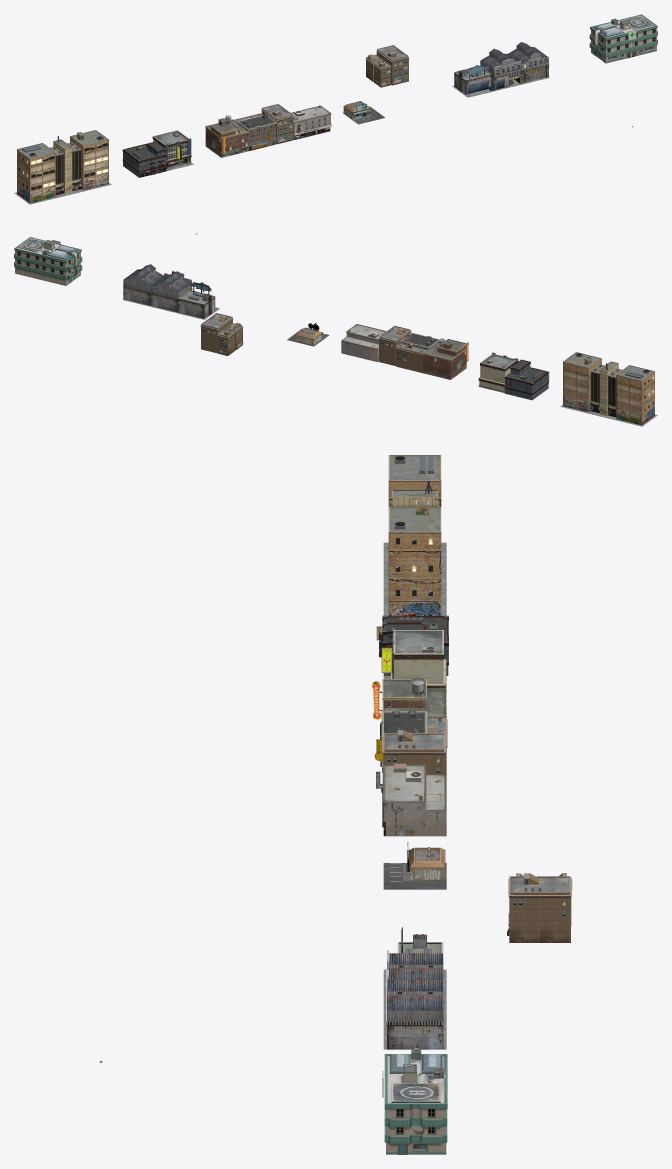
Rendered from predios.glb.
3 views of the same model, one above another, from view 1: azimuth 30°, elevation 25°; view 2: azimuth 150°, elevation 25°; view 3: azimuth 270°, elevation 25° (orthographic). The views are drawn at different scales.
Parts seen in each view (by area): view 1: LM_Clinic2, pasted__pCube27, Filler_Apartments2, pasted__pCube20, pCube6 (×2), pasted__pCube1 (×2), polySurface139 (×2), pasted__pCube19, pasted__polySurface17, pCube21, pasted__pCube18, pasted__pCube28 (+4 smaller); view 2: LM_Clinic2, pasted__pCube27, pasted__pCube20, Filler_Apartments2, pasted__pCube1 (×2), pasted__pCube3, polySurface139 (×2), pasted__pCube2, pasted__pCube19, pCube31, pasted__pCube18, Filler_SalsT8_group8_pCube11 (+8 smaller); view 3: LM_Clinic2, pasted__pCube20, Filler_SalsT8_group8_pCube11, polySurface139 (×2), pasted__pCube2, pasted__pCube27, pCube31, pasted__polySurface804, Filler_Apartments2, polySurface113, pasted__polySurface17, pCube6 (+1 smaller).
Part boxes in pixels (x1,y1,x2,y2): LM_Clinic2: (589, 14, 657, 63); pasted__pCube27: (17, 143, 55, 192); Filler_Apartments2: (122, 141, 167, 177); pasted__pCube20: (70, 130, 108, 179); pCube6 (×2): (205, 119, 249, 152); pasted__pCube1 (×2): (81, 68, 491, 190); polySurface139 (×2): (261, 45, 408, 121); pasted__pCube19: (53, 139, 72, 193); pasted__polySurface17: (508, 47, 548, 69); pCube21: (237, 115, 276, 143); pasted__pCube18: (67, 142, 81, 191); pasted__pCube28: (17, 184, 55, 203); LM_Clinic2: (14, 237, 82, 285); pasted__pCube27: (616, 365, 654, 414); pasted__pCube20: (563, 352, 601, 401); Filler_Apartments2: (504, 359, 549, 400); pasted__pCube1 (×2): (178, 290, 590, 412); pasted__pCube3: (150, 284, 191, 312); polySurface139 (×2): (200, 313, 411, 343); pasted__pCube2: (123, 280, 150, 305); pasted__pCube19: (599, 361, 618, 415); pCube31: (341, 336, 378, 357); pasted__pCube18: (590, 364, 604, 413); Filler_SalsT8_group8_pCube11: (201, 319, 232, 353); LM_Clinic2: (382, 1047, 447, 1154); pasted__pCube20: (388, 507, 441, 600); Filler_SalsT8_group8_pCube11: (509, 897, 570, 942); polySurface139 (×2): (383, 733, 571, 897); pasted__pCube2: (387, 1010, 443, 1049); pasted__pCube27: (388, 455, 441, 506); pCube31: (383, 775, 446, 826); pasted__polySurface804: (393, 630, 443, 659); Filler_Apartments2: (376, 615, 448, 675); polySurface113: (384, 766, 424, 800); pasted__polySurface17: (387, 991, 443, 1010); pCube6: (382, 679, 426, 707).
Bounding box in the file's own units: 41420 × 3188 × 13473.
Materials: 120 (40 with a texture image).
